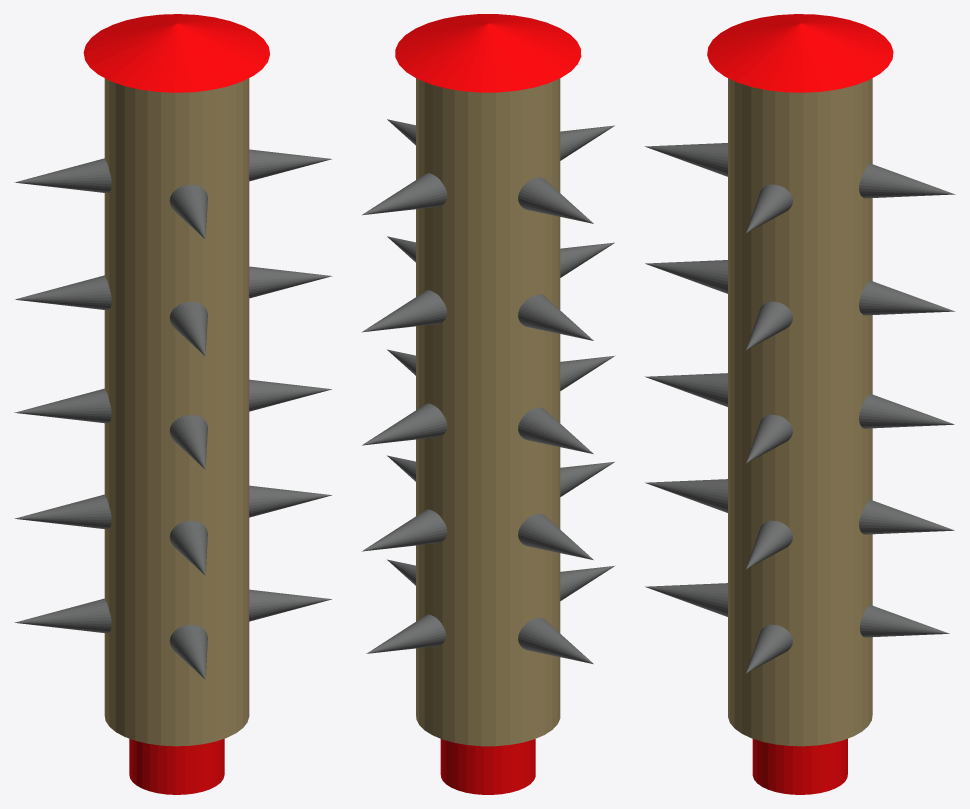
File: Barrier.fbx
3 renders of one model, left to right at view 1: azimuth 30°, elevation 25°; view 2: azimuth 150°, elevation 25°; view 3: azimuth 270°, elevation 25°, orthographic.
Visible parts, largest first — view 1: Cylinder.001; view 2: Cylinder.001; view 3: Cylinder.001.
Part boxes in pixels (x1,y1,x2,y2): Cylinder.001: (14,14,332,794); Cylinder.001: (361,14,615,794); Cylinder.001: (644,14,955,794).
Size of the model in its own units: 420 by 1145 by 430.
